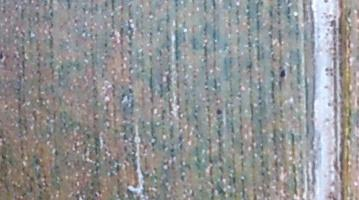tarspot: (213, 108, 224, 117), (279, 67, 286, 80), (1, 51, 6, 64), (321, 1, 330, 5)
